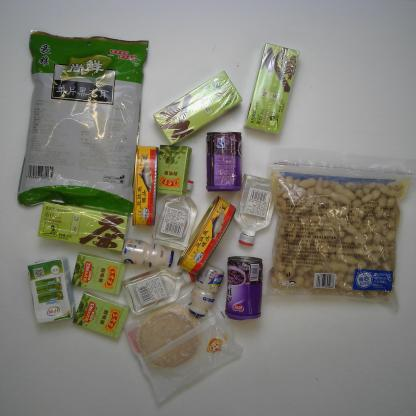Alcohol: (123, 265, 198, 315), (232, 170, 278, 248), (152, 176, 199, 252)
Candy: (71, 290, 130, 338), (71, 251, 128, 294), (156, 142, 192, 195)
Canned Food: (176, 196, 236, 274), (204, 130, 246, 195), (131, 144, 163, 225), (224, 254, 262, 320)
Dessert: (127, 291, 245, 408)
Dried Food: (17, 29, 152, 218), (261, 151, 413, 310)
Instant Drink: (155, 71, 244, 146), (245, 42, 301, 134), (36, 200, 129, 253)
Milk: (26, 259, 76, 325), (187, 264, 226, 316), (121, 235, 174, 267)
